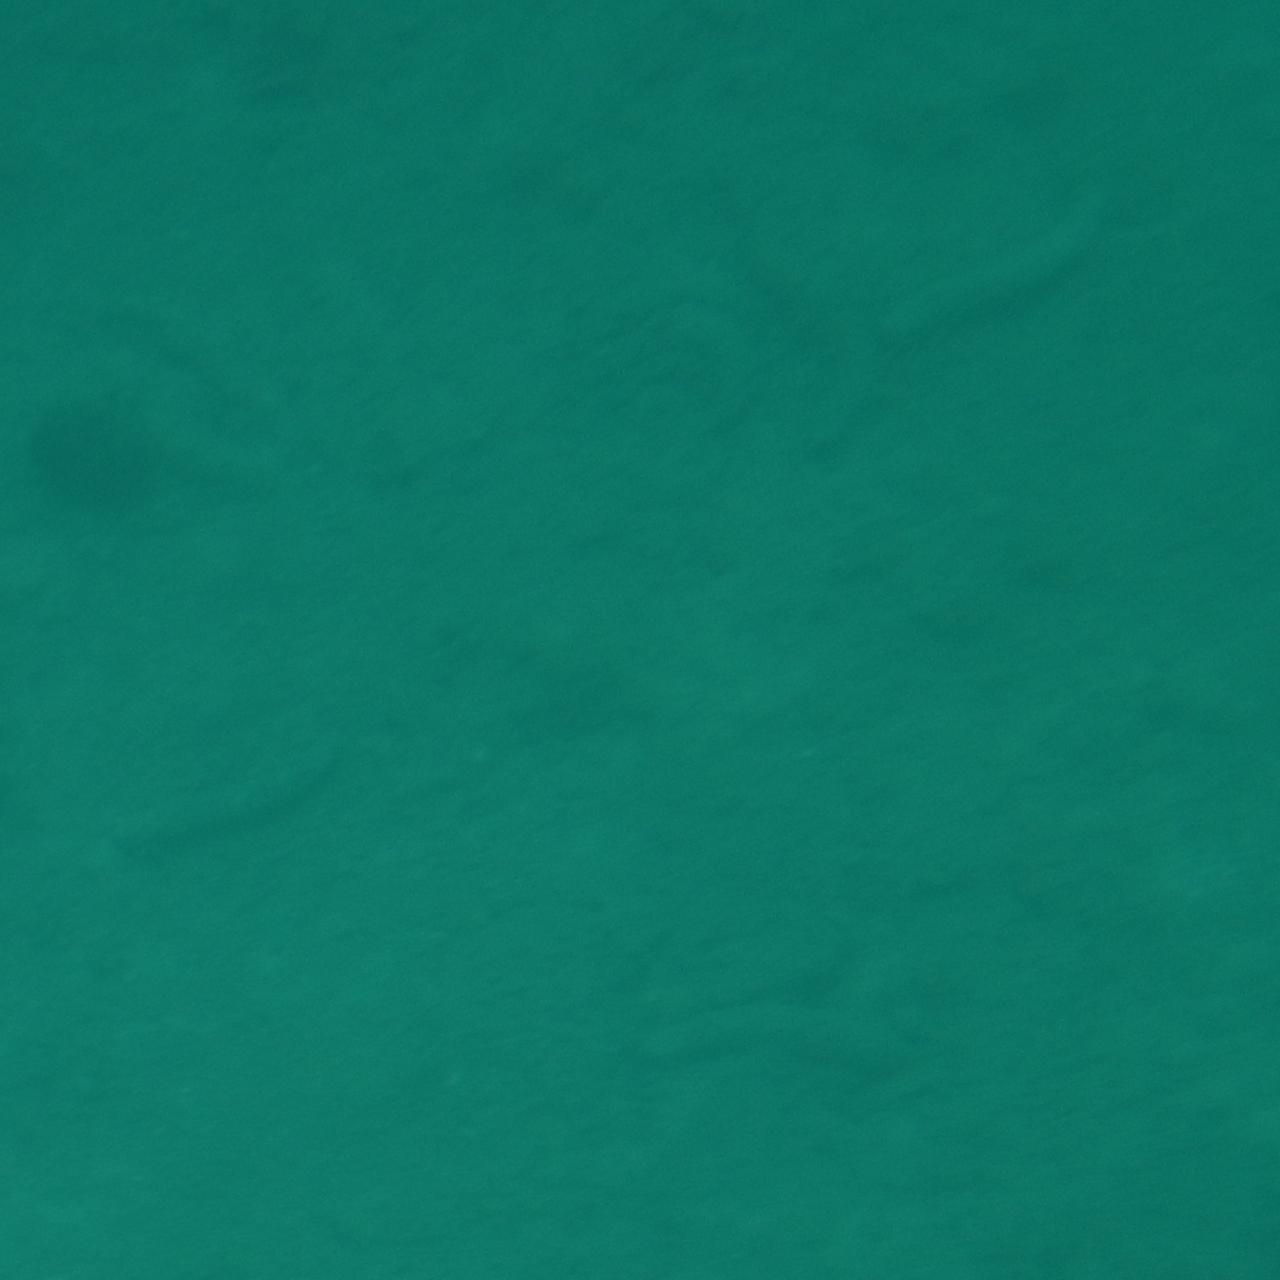Holothuria tubulosa: (624, 922, 964, 1133), (856, 158, 1224, 346), (79, 716, 404, 888)
